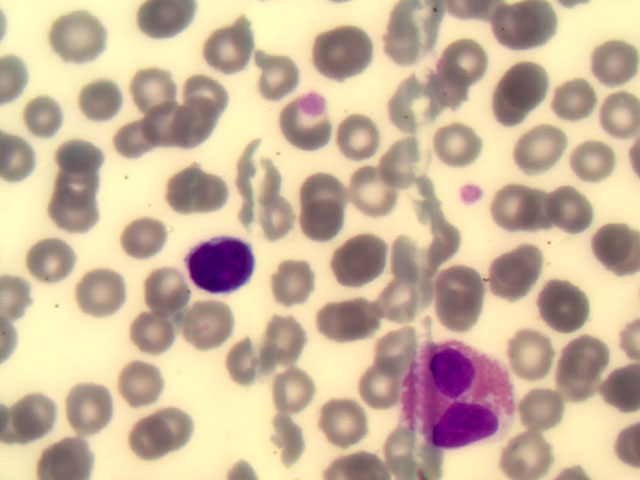Platelets: (461, 186, 482, 204), (303, 93, 319, 110)
RBC: (48, 10, 107, 65), (17, 86, 76, 141), (81, 78, 140, 133), (54, 118, 113, 173), (45, 164, 104, 219), (45, 190, 104, 245), (24, 234, 83, 289), (75, 261, 134, 316), (112, 211, 171, 266), (134, 257, 193, 312), (124, 300, 183, 355), (179, 303, 238, 358), (115, 360, 174, 415), (64, 379, 123, 434), (10, 385, 69, 440), (37, 424, 96, 479), (102, 416, 161, 471), (150, 397, 209, 452), (210, 336, 269, 391), (254, 308, 313, 363), (259, 260, 318, 315), (269, 358, 328, 413), (305, 391, 364, 446), (340, 354, 399, 409), (373, 317, 432, 372), (317, 300, 376, 355), (327, 226, 386, 281), (294, 201, 353, 256), (288, 158, 347, 213), (321, 112, 380, 167), (182, 67, 241, 122), (199, 15, 258, 70), (251, 39, 310, 94), (312, 25, 371, 80), (144, 102, 203, 157), (106, 115, 165, 170), (118, 66, 177, 121), (170, 159, 229, 214), (367, 130, 426, 185), (351, 161, 410, 216), (426, 116, 485, 171), (434, 37, 493, 92), (501, 52, 560, 107), (482, 86, 541, 141), (514, 122, 573, 177), (555, 134, 614, 189), (545, 75, 604, 130), (581, 87, 640, 142), (581, 34, 640, 89), (581, 211, 640, 266), (553, 186, 612, 241), (488, 180, 547, 235), (488, 247, 547, 302), (429, 264, 488, 319), (533, 273, 592, 328), (506, 329, 565, 384), (565, 320, 624, 375), (524, 383, 583, 438), (550, 365, 609, 420), (503, 425, 562, 480), (381, 425, 440, 480), (138, 1, 195, 37)
WBC: (187, 229, 250, 294)
